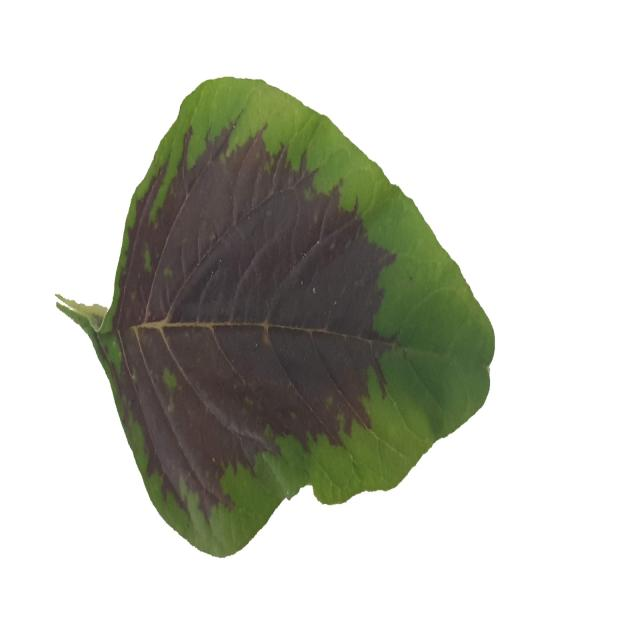Medicinal-Arive Dantu: (55, 74, 494, 560)
